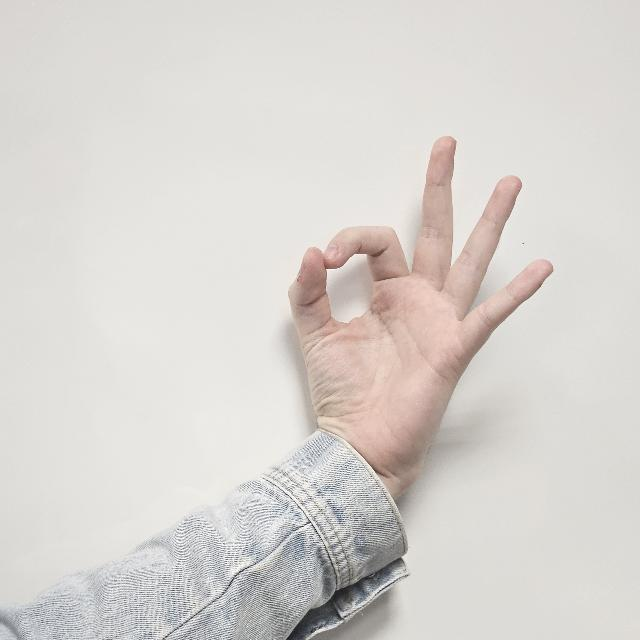Bolinha: (289, 130, 553, 472)
